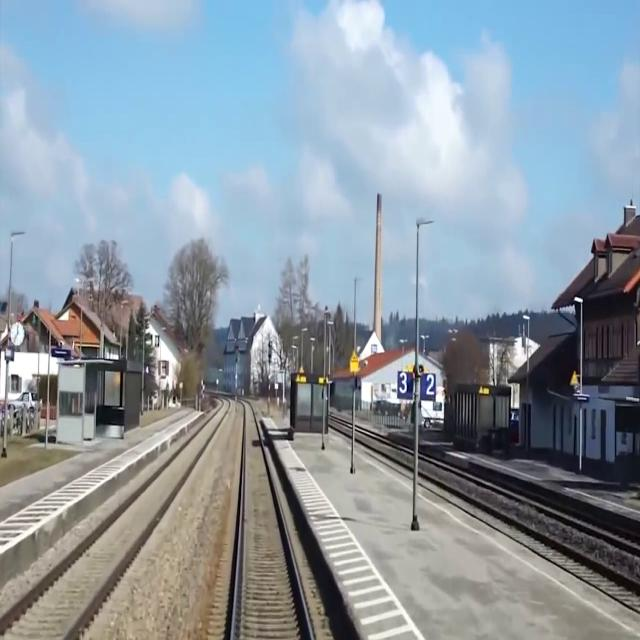rail-track: (0, 401, 227, 639), (417, 475, 640, 597), (234, 405, 309, 639), (617, 533, 640, 543)
